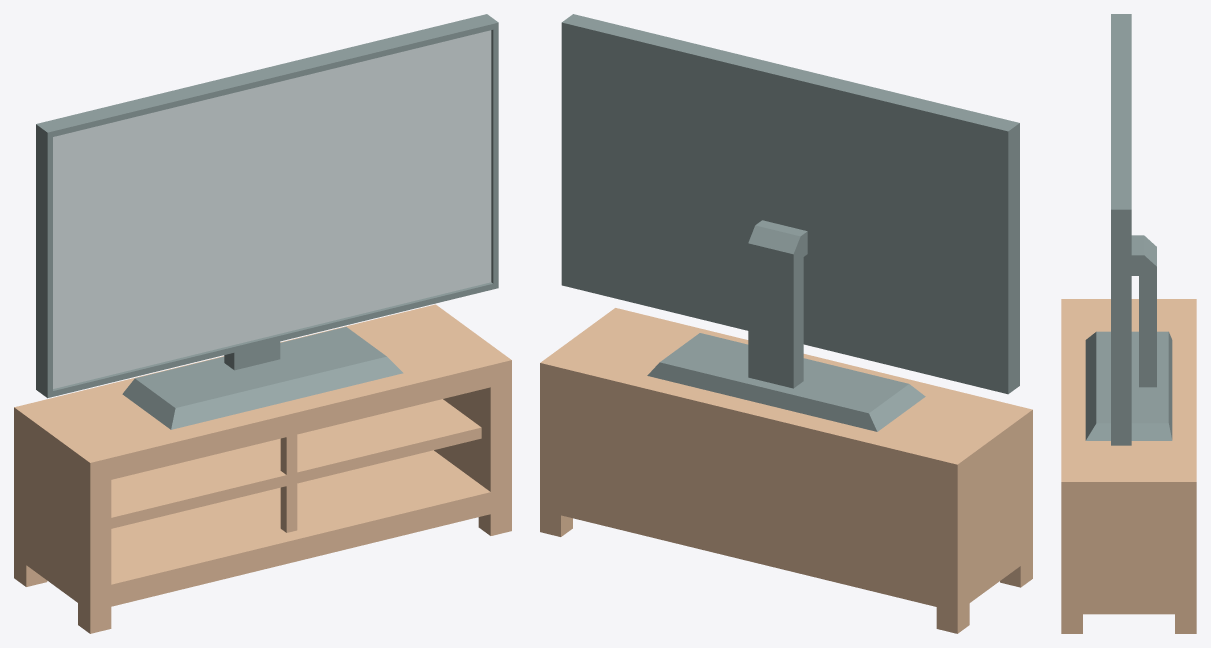
Rendered from tv_plasma.glb.
3 views of the same model, side by side, from view 1: azimuth 30°, elevation 25°; view 2: azimuth 150°, elevation 25°; view 3: azimuth 270°, elevation 25° (orthographic). The views are drawn at different scales.
Visible parts, largest first — view 1: televisionModern(Clone), cabinetTelevision(Clone); view 2: televisionModern(Clone), cabinetTelevision(Clone); view 3: cabinetTelevision(Clone), televisionModern(Clone).
Part boxes in pixels (<box>): televisionModern(Clone): <box>36,14,498,429</box>; cabinetTelevision(Clone): <box>14,304,511,633</box>; televisionModern(Clone): <box>561,14,1019,431</box>; cabinetTelevision(Clone): <box>540,308,1032,633</box>; cabinetTelevision(Clone): <box>1061,299,1196,633</box>; televisionModern(Clone): <box>1085,14,1172,445</box>.
Bounding box in the file's own units: 1.75 × 1.8 × 0.5125.
